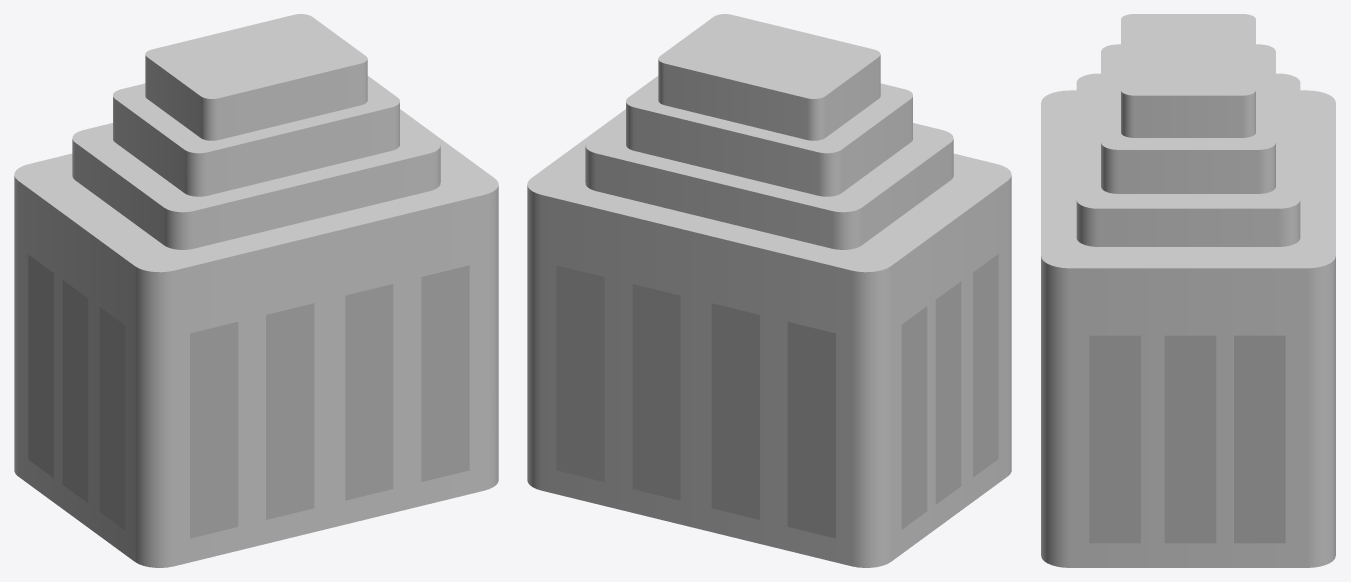
The model's file is House C.fbx.
3 renders of one model, left to right at view 1: azimuth 30°, elevation 25°; view 2: azimuth 150°, elevation 25°; view 3: azimuth 270°, elevation 25°, orthographic.
Parts seen in each view (by area): view 1: House С, House С Roof; view 2: House С, House С Roof; view 3: House С Roof, House С.
Part boxes in pixels (x1,y1,x2,y2): House С: (14, 218, 498, 567); House С Roof: (14, 14, 498, 313); House С: (527, 218, 1011, 567); House С Roof: (527, 14, 1011, 313); House С Roof: (1041, 14, 1335, 310); House С: (1041, 299, 1335, 567).
Bounding box in the file's own units: 594 × 660 × 418.
